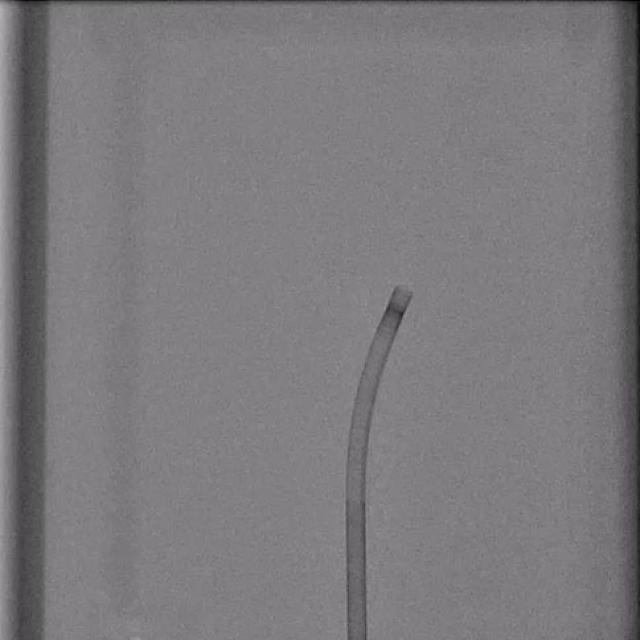bend: (346, 482, 366, 502)
entry: (348, 636, 366, 640)
marker: (385, 300, 407, 318)
tip: (394, 285, 414, 296)
